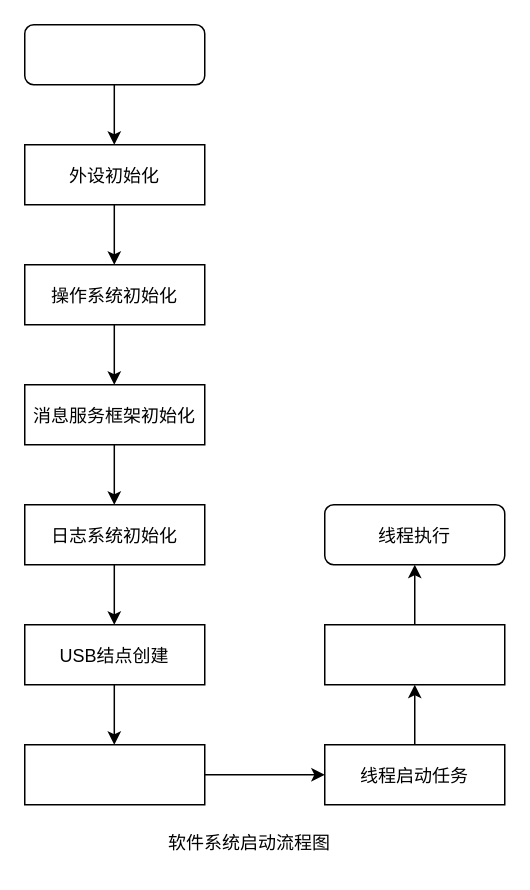
Image size: 530x890. Some labels were removed from this diagram. The shapes that lost their labels are listed below. From the top down, each one's box as (x1, y1, x2, y2) in pixels, then its label:
(23, 23, 205, 85): 程序启动
(323, 623, 505, 685): 各线程线程启动
(23, 743, 205, 805): Mavlink结点创建
